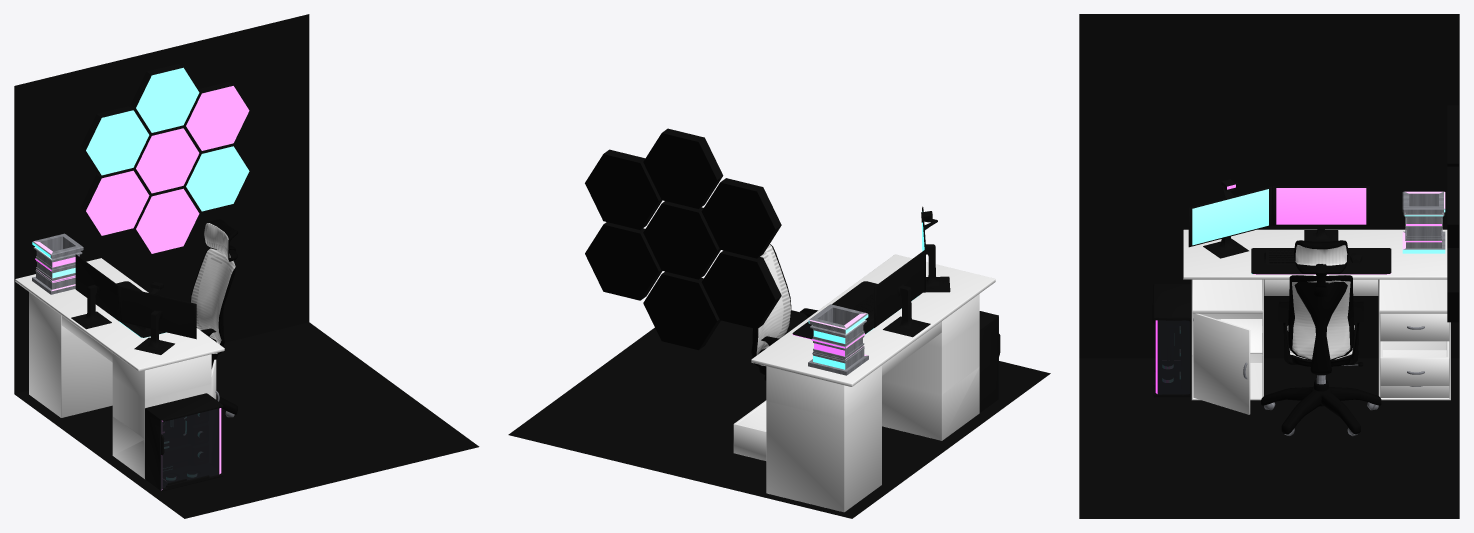
File: neon_studio.glb
3 views of the same model, side by side, from view 1: azimuth 30°, elevation 25°; view 2: azimuth 150°, elevation 25°; view 3: azimuth 270°, elevation 25° (orthographic). The views are drawn at different scales.
Visible parts, largest first — view 1: Studio; view 2: Studio; view 3: Studio.
Part boxes in pixels (x1=…): Studio: x1=14, y1=14, x2=479, y2=518; Studio: x1=508, y1=128, x2=1050, y2=518; Studio: x1=1079, y1=14, x2=1459, y2=518.
Bounding box in the file's own units: 5.42 × 5.43 × 5.42.
Materials: 9 (2 with a texture image).
